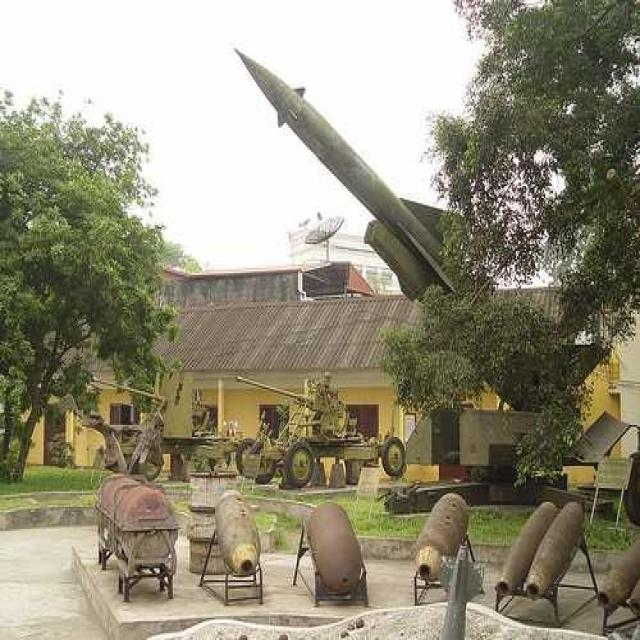missile: (233, 40, 472, 293)
